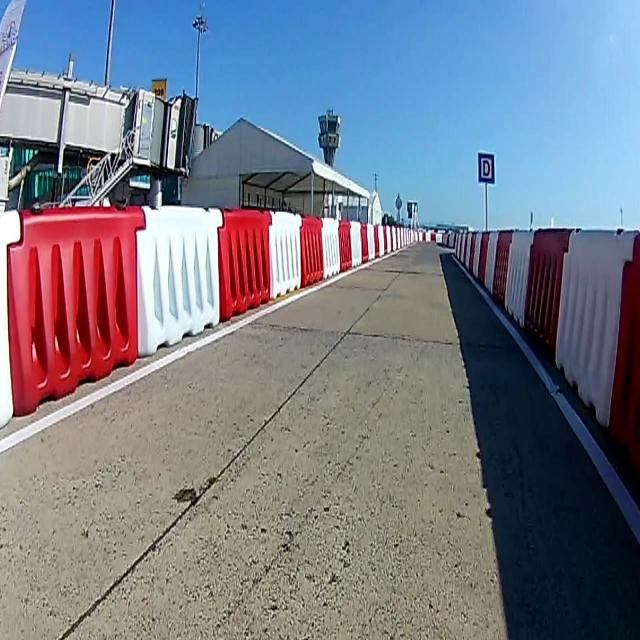durak: (479, 151, 497, 184)
